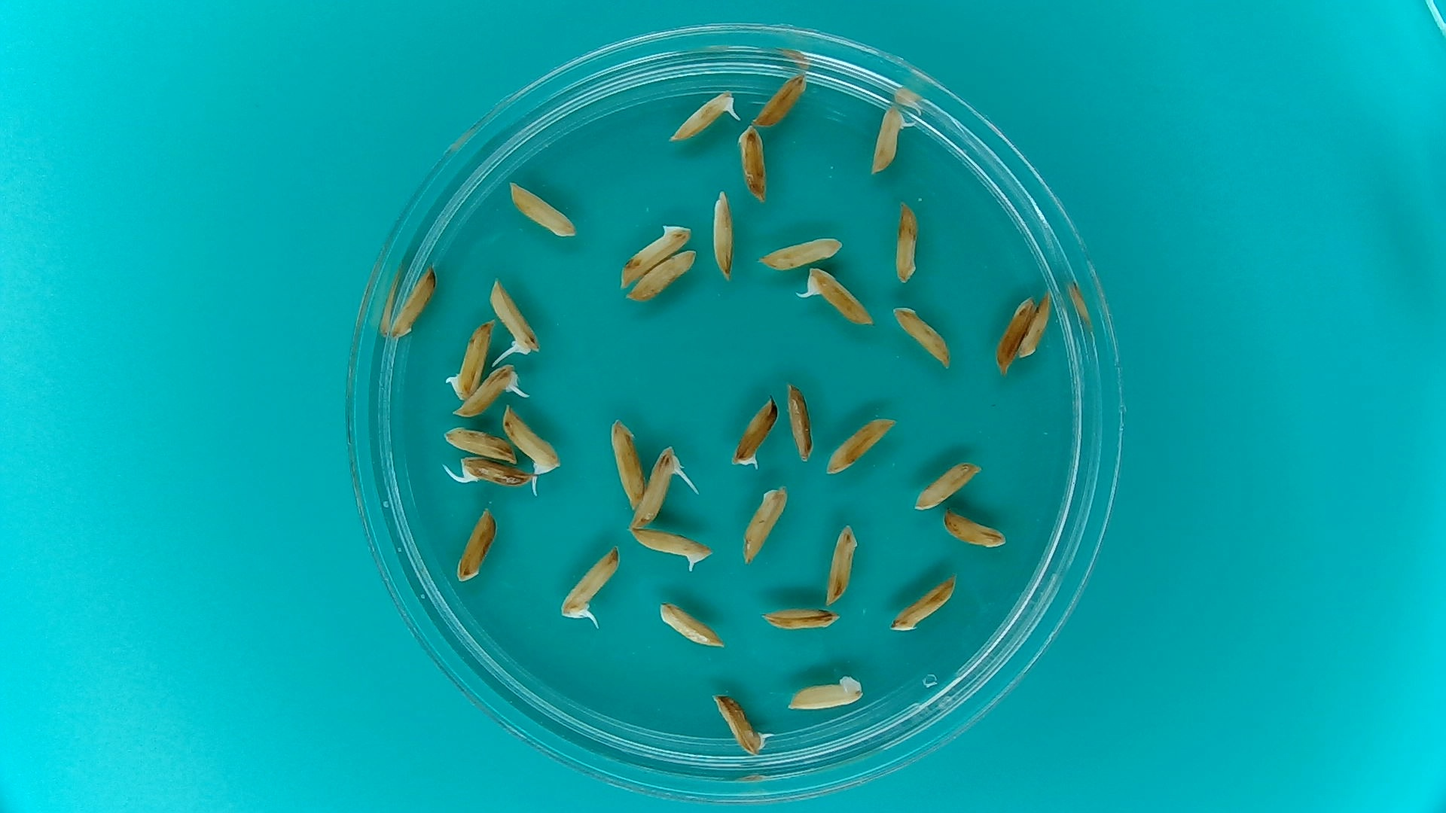no: (614, 215, 696, 288), (502, 175, 580, 241), (824, 411, 899, 477), (622, 244, 702, 305), (886, 571, 959, 634), (890, 302, 955, 371), (740, 481, 790, 568), (911, 456, 984, 513), (753, 230, 846, 273), (388, 262, 438, 339), (749, 68, 811, 129), (453, 504, 499, 586), (656, 598, 728, 650), (608, 416, 646, 510), (993, 293, 1036, 376), (822, 519, 860, 609), (440, 422, 521, 463), (784, 671, 865, 712), (734, 124, 774, 205), (707, 185, 738, 285), (889, 197, 923, 288), (939, 507, 1010, 550), (783, 377, 816, 464), (758, 602, 844, 634), (1017, 291, 1055, 362)
yes: (627, 440, 689, 531), (556, 541, 624, 623), (798, 263, 879, 329), (503, 402, 563, 480), (487, 273, 541, 358), (447, 361, 526, 419), (442, 315, 495, 400), (664, 88, 741, 145), (728, 388, 780, 472), (627, 525, 715, 574), (710, 690, 771, 757), (866, 100, 914, 177), (450, 452, 535, 491)
